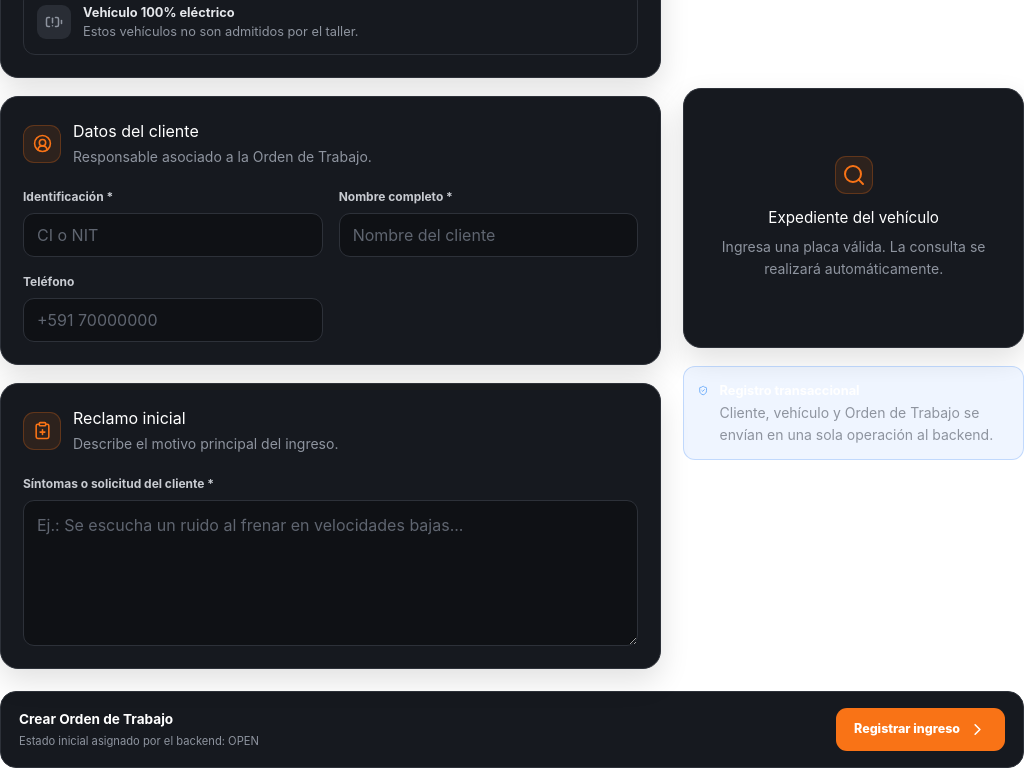
VehicleReceptionPage › validates every required work-order field
This screenshot has width=1024, height=768.
(page scrolled)
Click the button "Registrar ingreso". click: (920,729)
box: [836,708,1005,751]
(page scrolled)
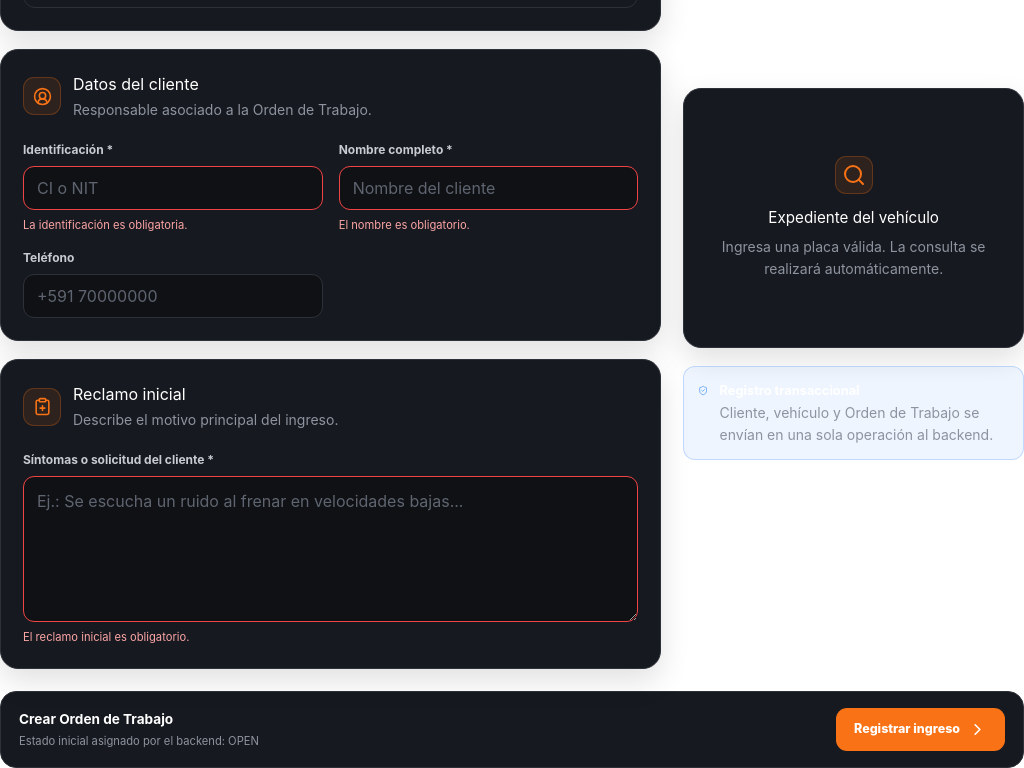
Check: the text "La identificación es obligatoria." is shown, box [23,218,188,232]
Check: the text "El nombre es obligatorio." is shown, box [339,218,470,232]
Check: the text "El reclamo inicial es obligatorio." is shown, box [23,630,189,644]
